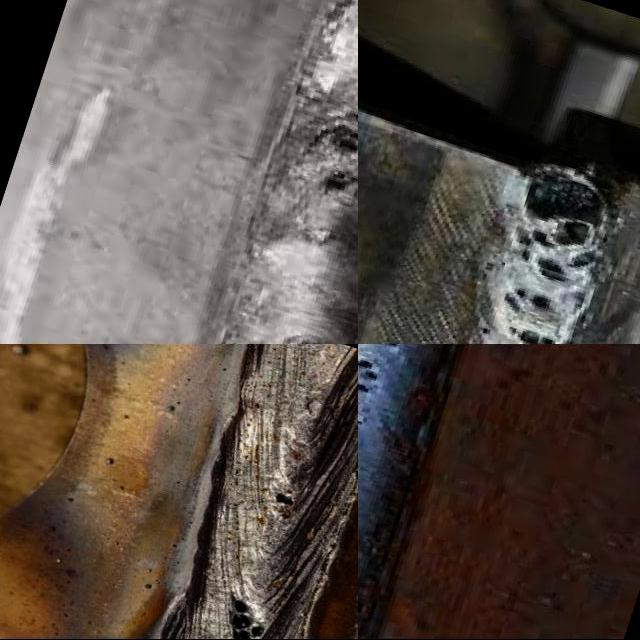defect: (513, 161, 615, 286), (485, 320, 571, 345), (498, 285, 559, 319), (223, 599, 270, 640), (318, 109, 358, 154), (306, 164, 358, 196), (358, 358, 386, 396), (269, 491, 300, 511), (358, 400, 377, 429)
